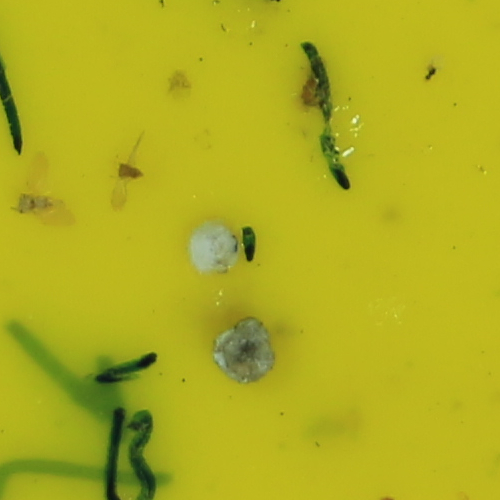psylla: (16, 194, 57, 214), (111, 161, 147, 181)
